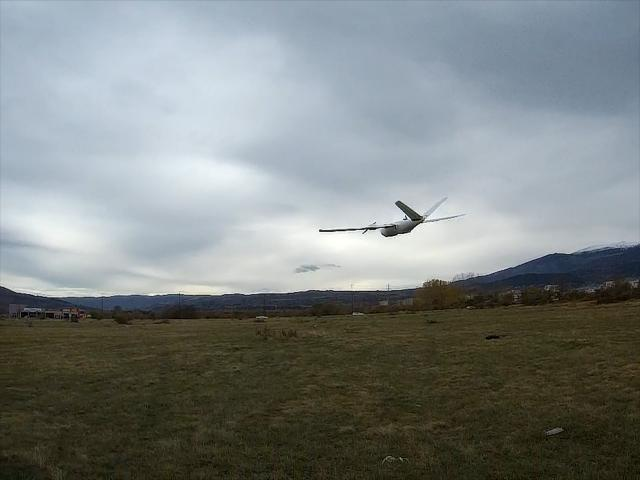plane: (318, 198, 465, 238)
